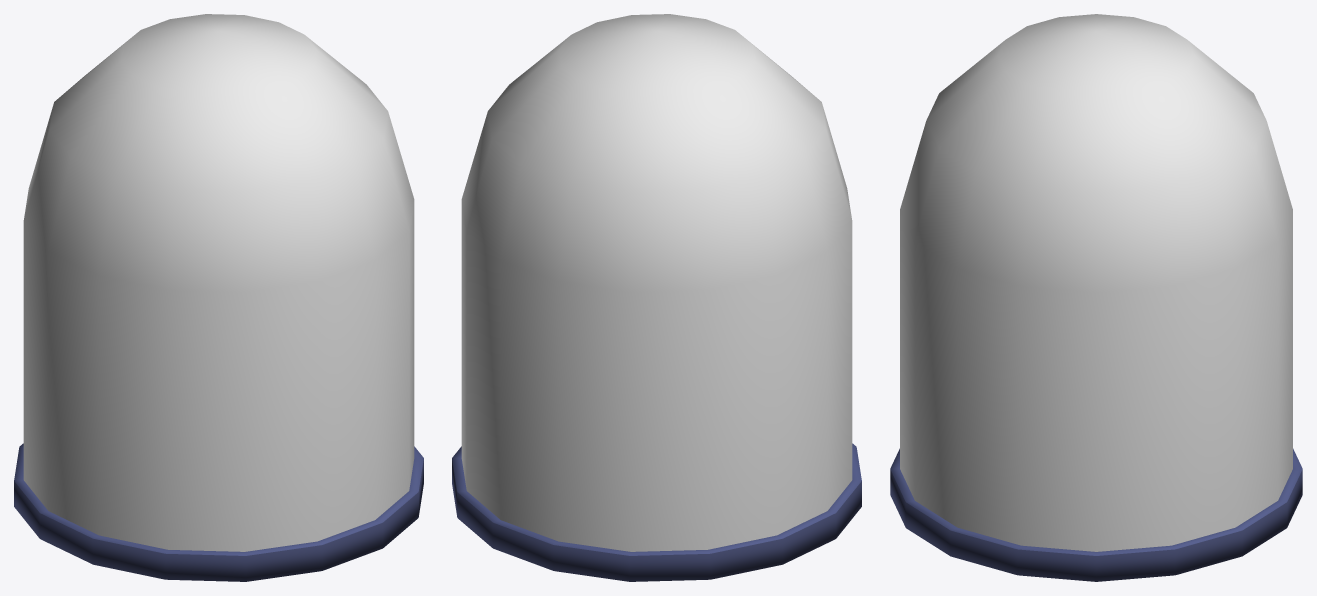
File: Tree1.fbx
3 views of the same model, side by side, from view 1: azimuth 30°, elevation 25°; view 2: azimuth 150°, elevation 25°; view 3: azimuth 270°, elevation 25° (orthographic).
Visible parts, largest first — view 1: Circle.002, Circle.001; view 2: Circle.002, Circle.001; view 3: Circle.002, Circle.001.
Part boxes in pixels (x1=…): Circle.002: x1=23, y1=14, x2=414, y2=551; Circle.001: x1=14, y1=443, x2=423, y2=581; Circle.002: x1=461, y1=14, x2=852, y2=551; Circle.001: x1=452, y1=443, x2=861, y2=581; Circle.002: x1=900, y1=14, x2=1292, y2=551; Circle.001: x1=890, y1=448, x2=1302, y2=581.
Size of the model in its own units: 577 by 715 by 577.
